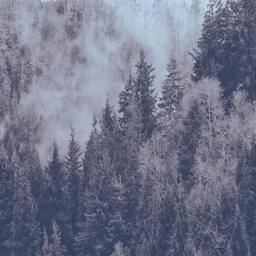Low smoke: (0, 0, 225, 177)
